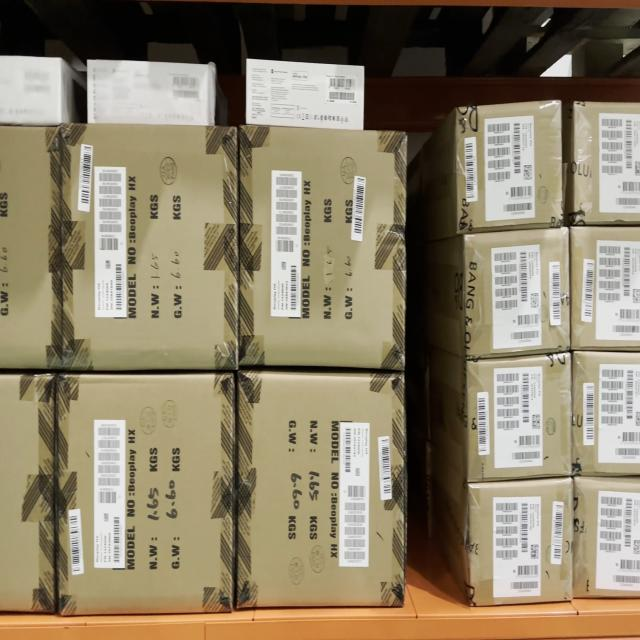box: (59, 377, 233, 617), (65, 131, 235, 367), (243, 127, 402, 368), (241, 376, 404, 605), (457, 106, 561, 222), (472, 485, 573, 600), (470, 363, 568, 478), (468, 237, 566, 344)
